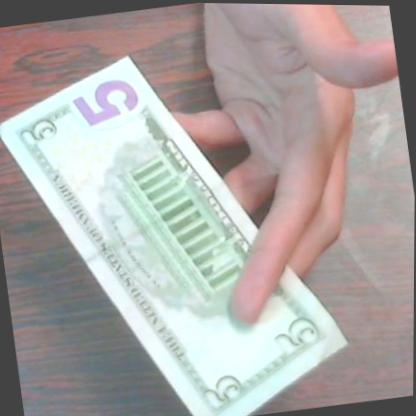five-back: (0, 22, 353, 416)
